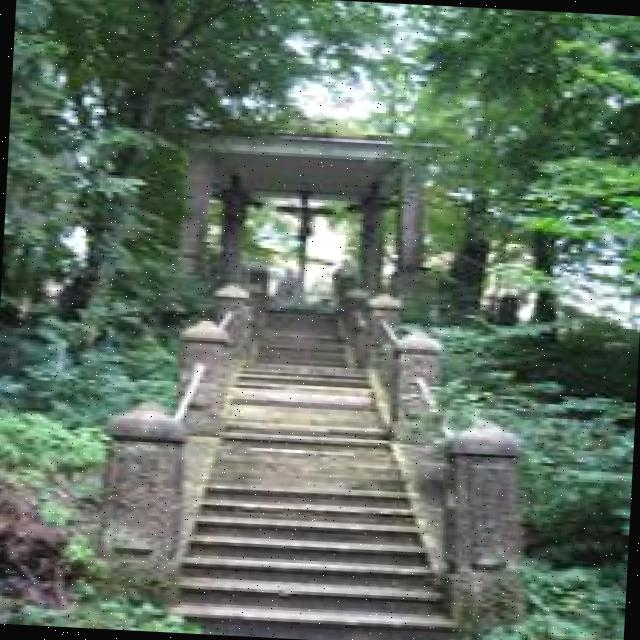stairs: (126, 242, 526, 626)
